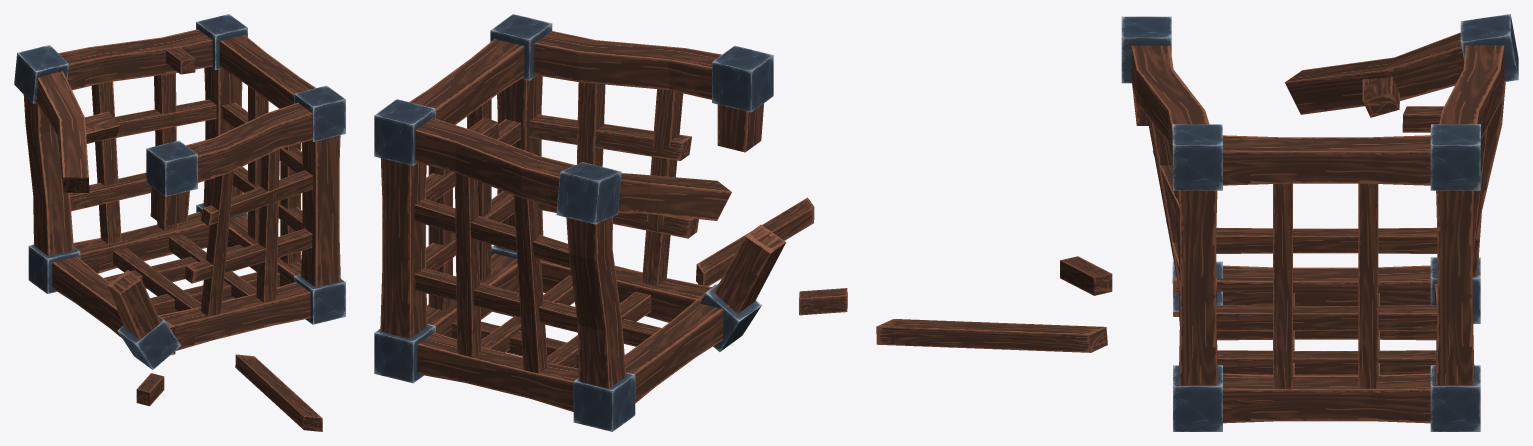
File: Wood_cage_damaged.fbx
3 views of the same model, side by side, from view 1: azimuth 30°, elevation 25°; view 2: azimuth 150°, elevation 25°; view 3: azimuth 270°, elevation 25° (orthographic). The views are drawn at different scales.
Visible parts, largest first — view 1: Wood_cage_damaged; view 2: Wood_cage_damaged; view 3: Wood_cage_damaged.
Part boxes in pixels (x1,y1,x2,y2): Wood_cage_damaged: [14, 14, 345, 431]; Wood_cage_damaged: [374, 14, 847, 431]; Wood_cage_damaged: [876, 14, 1518, 431].
Size of the model in its own units: 1.89 by 1.66 by 3.26.
